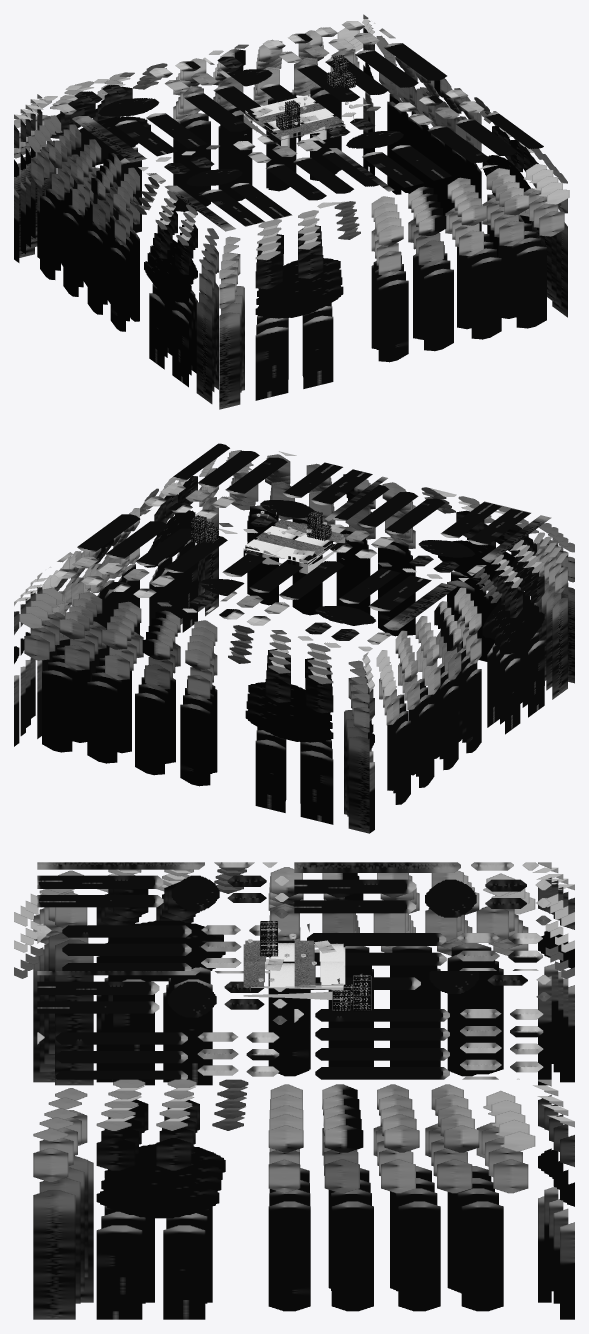
Rendered from market.dae.
3 renders of one model, top to bottom at view 1: azimuth 30°, elevation 25°; view 2: azimuth 150°, elevation 25°; view 3: azimuth 270°, elevation 25°, orthographic. The views are drawn at different scales.
Visible parts, largest first — view 1: MERCADO; view 2: MERCADO; view 3: MERCADO.
Boxes of the visible parts, bbox=[...] form: MERCADO: bbox=[14, 14, 569, 409]; MERCADO: bbox=[14, 443, 574, 833]; MERCADO: bbox=[14, 862, 574, 1319].
Bounding box in the file's own units: 36.93 × 36.93 × 19.61.
1 material, 1 textured.
